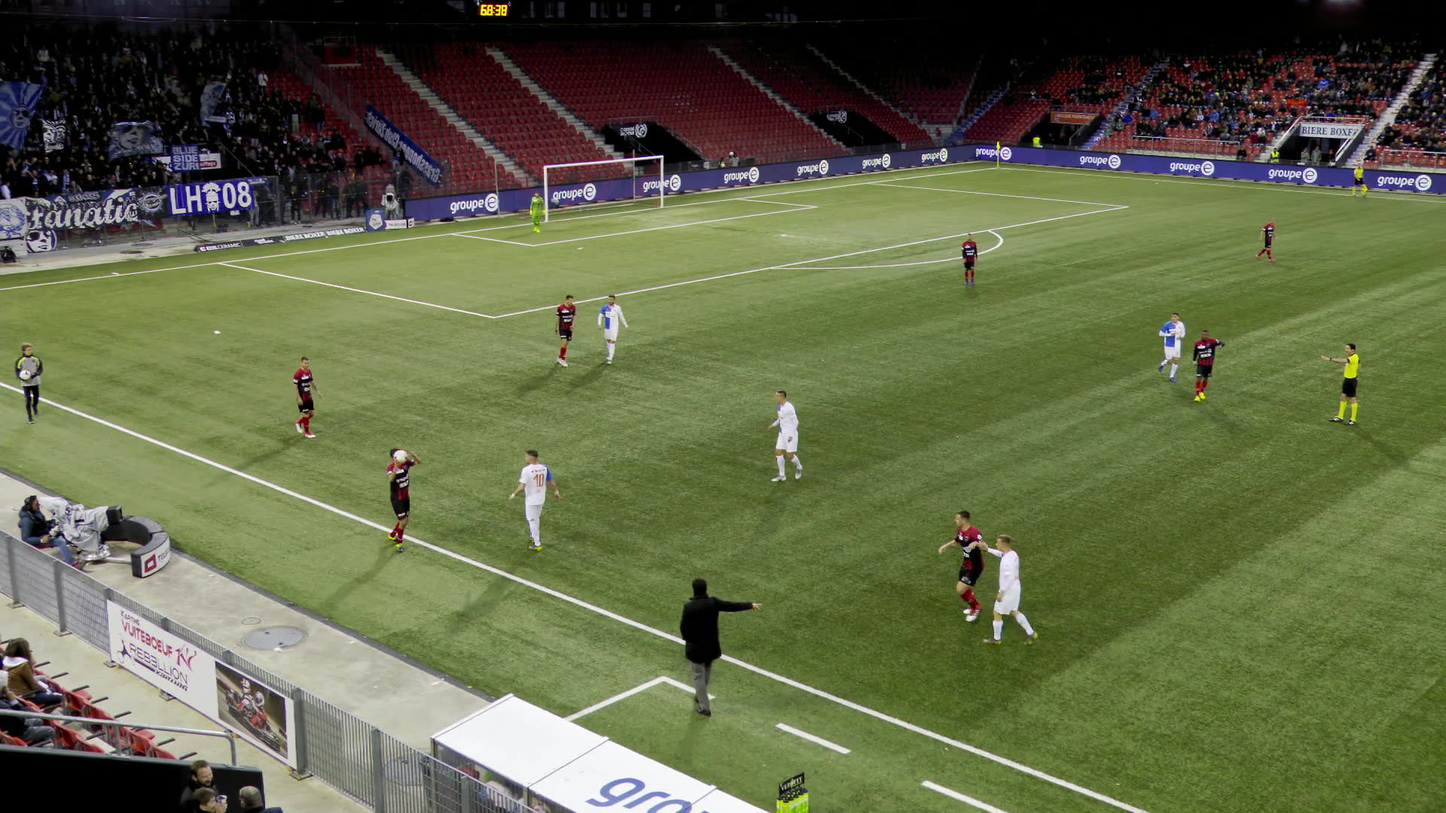ball: (393, 451, 407, 464), (20, 370, 32, 379)
player: (978, 533, 1031, 647), (938, 508, 990, 623), (509, 449, 560, 552), (386, 446, 425, 552), (766, 389, 806, 483), (1189, 328, 1226, 402), (291, 355, 323, 437), (597, 293, 628, 365), (552, 294, 579, 365), (1158, 310, 1185, 380), (1255, 216, 1278, 262), (961, 233, 979, 285), (529, 190, 545, 233)
referee: (1319, 343, 1362, 425), (1352, 163, 1366, 198)
